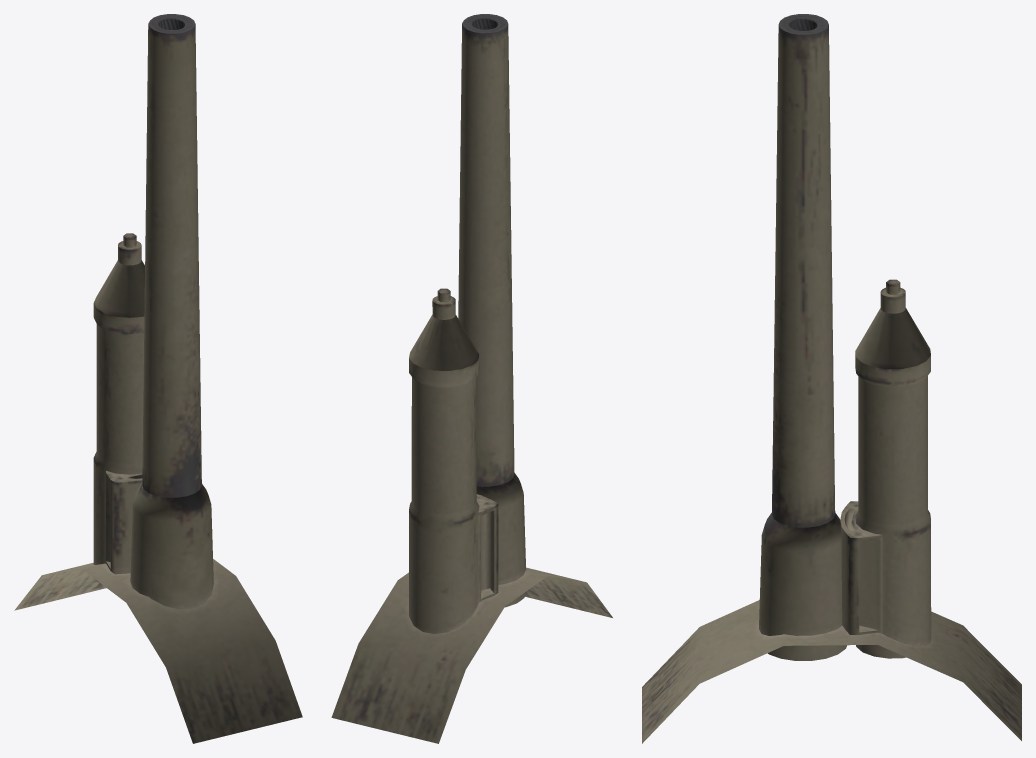
The model's file is Gun_01.glb.
The picture shows the model from 3 angles, left to right: view 1: azimuth 30°, elevation 25°; view 2: azimuth 150°, elevation 25°; view 3: azimuth 270°, elevation 25°; orthographic projection. The views are drawn at different scales.
Parts seen in each view (by area): view 1: set_0_group_0; view 2: set_0_group_0; view 3: set_0_group_0.
Part boxes in pixels (left/top/right/bottom): set_0_group_0: left=14, top=14, right=302, bottom=743; set_0_group_0: left=331, top=14, right=612, bottom=743; set_0_group_0: left=642, top=14, right=1021, bottom=743.
Bounding box in the file's own units: 0.2118 × 1.2 × 0.5975.
1 material, 1 textured.
